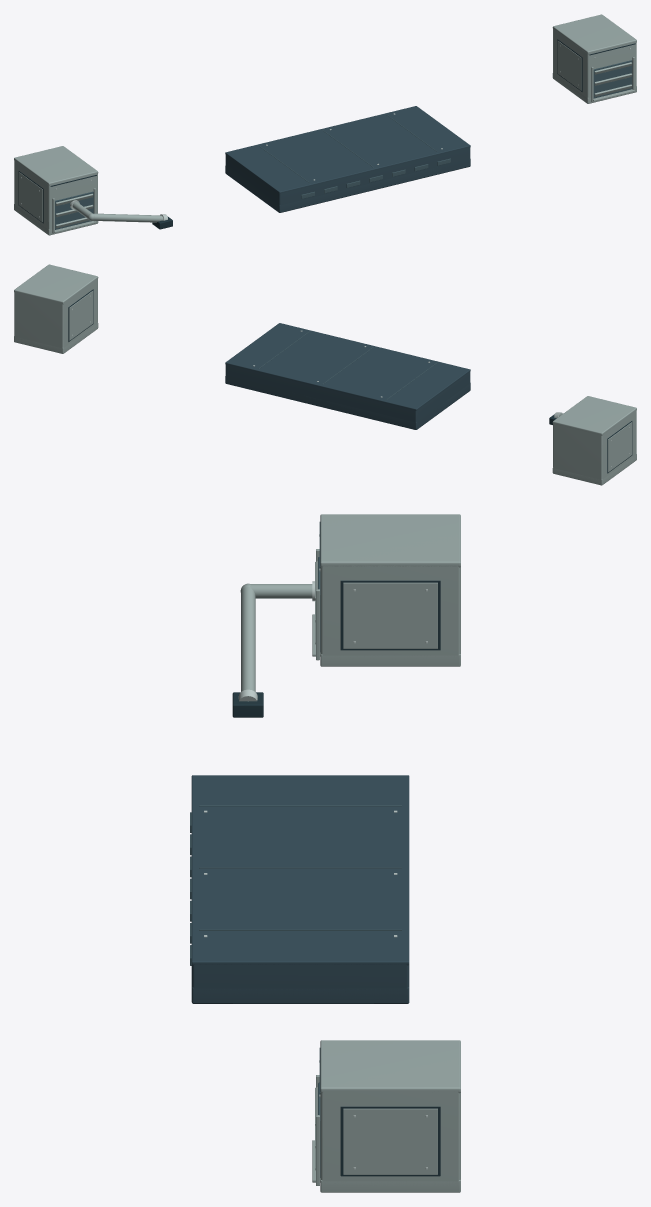
File: roof-equipment.glb
3 views of the same model, one above another, from view 1: azimuth 30°, elevation 25°; view 2: azimuth 150°, elevation 25°; view 3: azimuth 270°, elevation 25° (orthographic). The views are drawn at different scales.
Parts seen in each view (by area): view 1: Roof service plinth.001, Ventilator curb flashing.002, Ventilator recessed intake.002, Conduit roof flashing boot.001; view 2: Roof service plinth.001, Ventilator curb flashing.002, Conduit roof flashing boot.001; view 3: Roof service plinth.001, Ventilator curb flashing.002, Conduit roof flashing boot.001, Ventilator recessed intake.002.
Boxes of the visible parts, x1,y1,x2,y2 form: Roof service plinth.001: (225, 106, 470, 212); Ventilator curb flashing.002: (14, 14, 636, 235); Ventilator recessed intake.002: (55, 60, 632, 229); Conduit roof flashing boot.001: (18, 39, 635, 229); Roof service plinth.001: (225, 323, 470, 429); Ventilator curb flashing.002: (14, 264, 636, 485); Conduit roof flashing boot.001: (68, 289, 632, 473); Roof service plinth.001: (191, 775, 409, 1003); Ventilator curb flashing.002: (240, 514, 460, 1192); Conduit roof flashing boot.001: (232, 522, 440, 1176); Ventilator recessed intake.002: (190, 557, 401, 1177).
Size of the model in its own units: 8.32 by 0.745 by 1.66.
